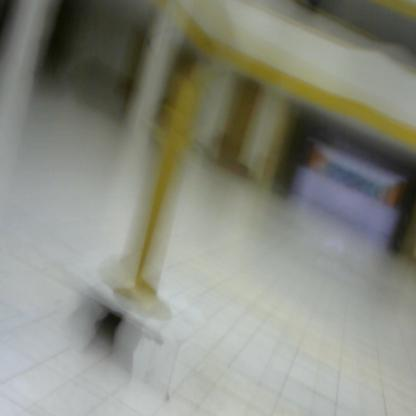pole: (118, 74, 217, 339)
